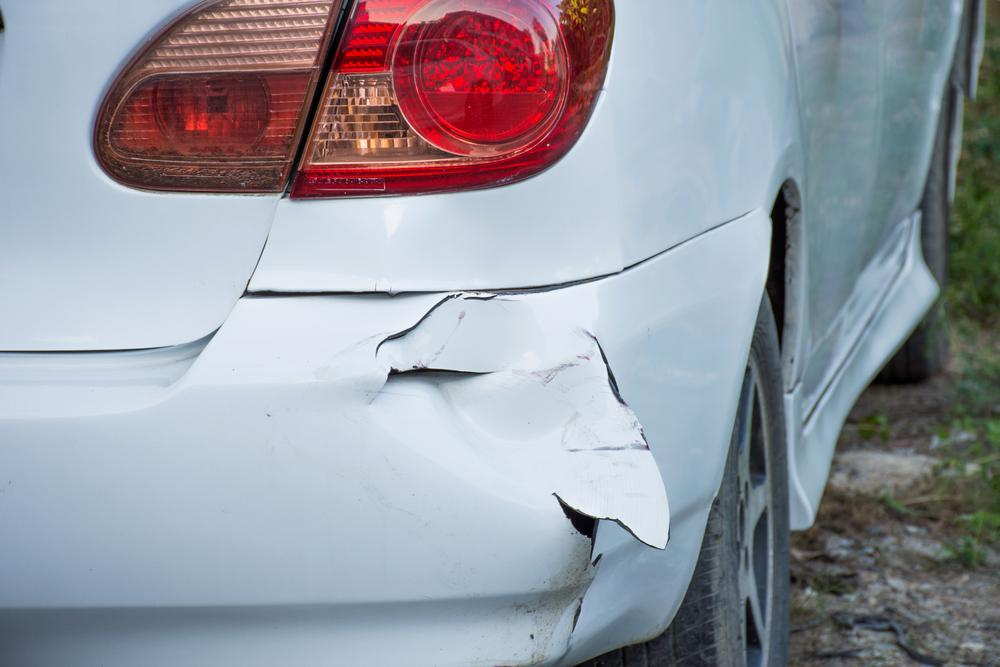crack: (369, 292, 504, 410), (554, 493, 601, 558), (586, 333, 624, 406)
dent: (376, 301, 613, 505)
